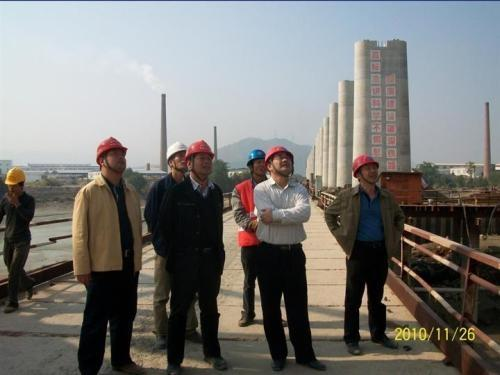Helmet: (98, 136, 126, 176), (188, 143, 217, 178)
NoVest: (257, 182, 309, 241)
